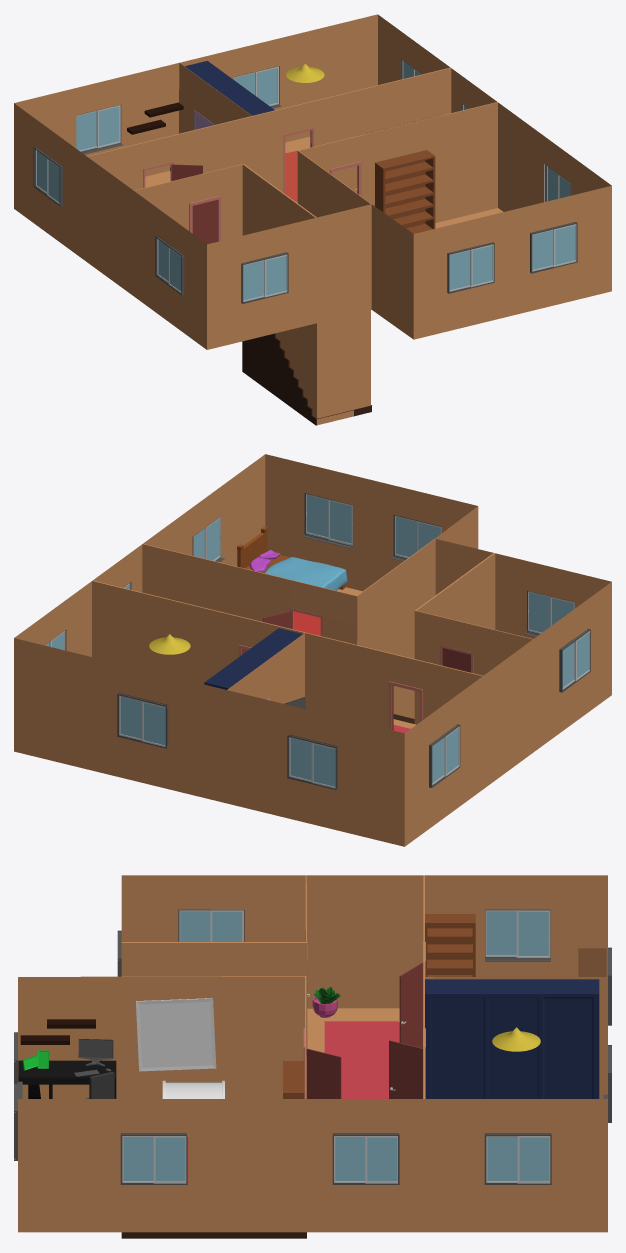
The model's file is house (2).fbx.
The picture shows the model from 3 angles, top to bottom: view 1: azimuth 30°, elevation 25°; view 2: azimuth 150°, elevation 25°; view 3: azimuth 270°, elevation 25°; orthographic projection. The views are drawn at different scales.
Visible parts, largest first — view 1: 1Walls, K_library, Cube, M_waredrobe, Door.002, Window.R.005, Window.L.014, Window.L.002, Window.L.003, Window.R.002, Window.R.003, Window.R.014 (+4 smaller); view 2: 1Walls, M_waredrobe, K_blankets, Window.R.002, Window.L.005, Window.L.012, Window.R.012, Window.R.005, Window.L.002, K_bed, Window.L.003, Window.L.014 (+6 smaller); view 3: 1Walls, M_waredrobe, K_whiteboard, C_carpet, O_library, K_desk, Door.009, Door.0, Door.007, Window.R.004, Window.L.001, Window.L (+19 smaller).
Part boxes in pixels (bbox=[...]): 1Walls: bbox=[14, 14, 611, 425]; K_library: bbox=[375, 150, 435, 233]; Cube: bbox=[242, 333, 371, 425]; M_waredrobe: bbox=[185, 61, 274, 115]; Door.002: bbox=[192, 199, 217, 244]; Window.R.005: bbox=[97, 105, 120, 148]; Window.L.014: bbox=[264, 254, 287, 297]; Window.L.002: bbox=[553, 224, 576, 266]; Window.L.003: bbox=[470, 244, 493, 287]; Window.R.002: bbox=[532, 229, 553, 271]; Window.R.003: bbox=[449, 250, 470, 291]; Window.R.014: bbox=[243, 260, 264, 301]; 1Walls: bbox=[14, 454, 611, 846]; M_waredrobe: bbox=[204, 628, 302, 689]; K_blankets: bbox=[264, 557, 347, 590]; Window.R.002: bbox=[328, 499, 352, 545]; Window.L.005: bbox=[311, 742, 335, 788]; Window.L.012: bbox=[142, 701, 167, 747]; Window.R.012: bbox=[119, 695, 141, 740]; Window.R.005: bbox=[289, 737, 311, 781]; Window.L.002: bbox=[306, 494, 328, 538]; K_bed: bbox=[237, 526, 345, 589]; Window.L.003: bbox=[395, 515, 417, 558]; Window.L.014: bbox=[528, 591, 550, 633]; 1Walls: bbox=[18, 875, 607, 1232]; M_waredrobe: bbox=[425, 979, 599, 1098]; K_whiteboard: bbox=[136, 998, 216, 1071]; C_carpet: bbox=[324, 1021, 399, 1098]; O_library: bbox=[425, 914, 475, 976]; K_desk: bbox=[18, 1060, 116, 1098]; Door.009: bbox=[389, 1040, 422, 1098]; Door.0: bbox=[399, 963, 422, 1048]; Door.007: bbox=[306, 1048, 341, 1098]; Window.R.004: bbox=[516, 910, 550, 957]; Window.L.001: bbox=[153, 1136, 186, 1183]; Window.L: bbox=[517, 1136, 550, 1183].
Bounding box in the file's own units: 1395 × 764 × 1552.
